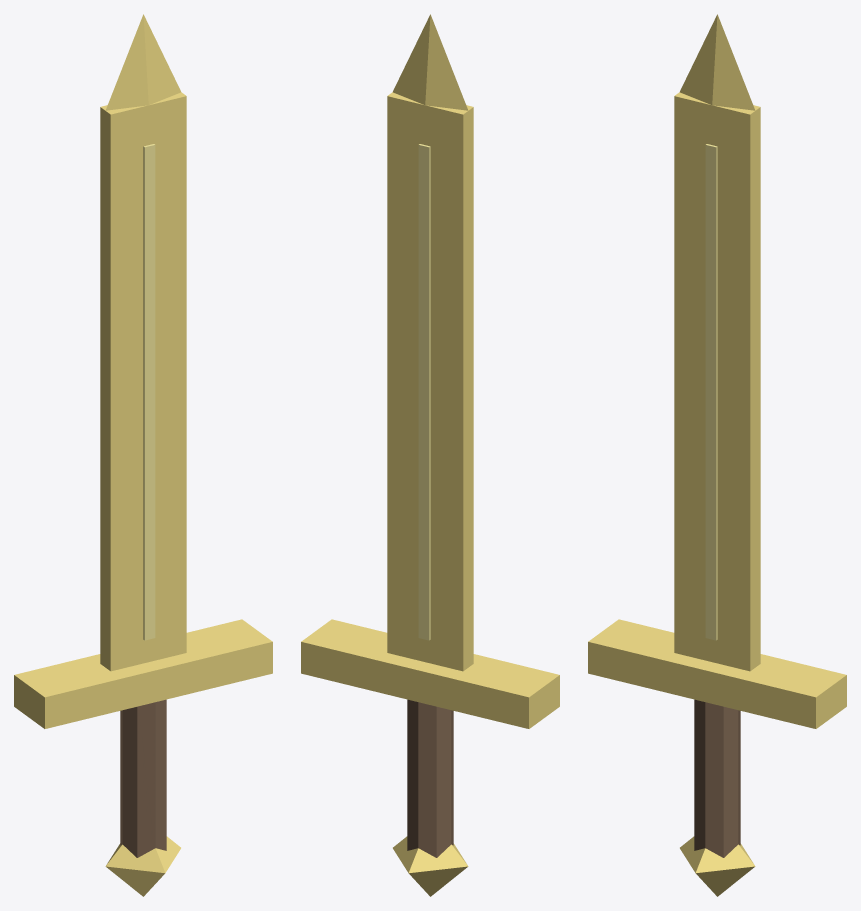
File: sword-gold.glb
3 views of the same model, side by side, from view 1: azimuth 30°, elevation 25°; view 2: azimuth 150°, elevation 25°; view 3: azimuth 330°, elevation 25° (orthographic).
Size of the model in its own units: 0.6 by 2.22 by 0.2.
